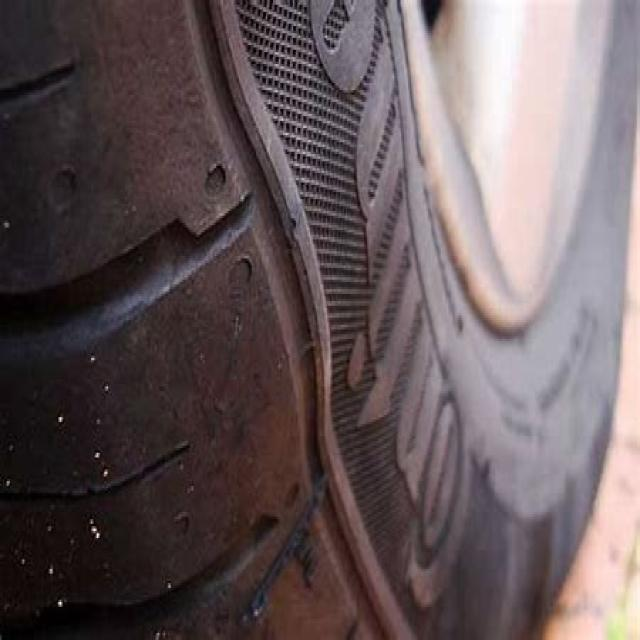Bulge: (223, 154, 391, 470)
